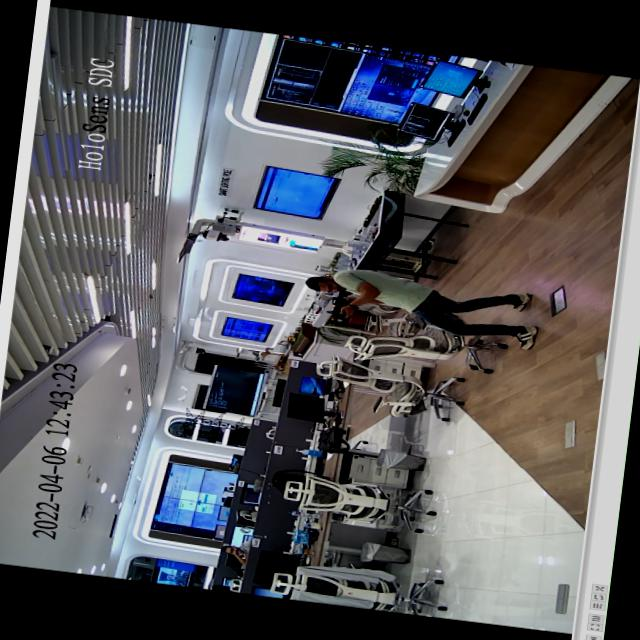long weapon: (323, 286, 361, 323)
